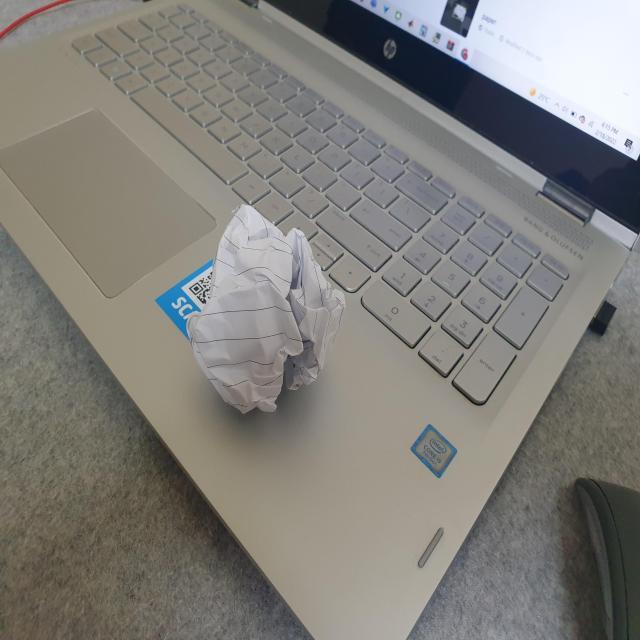cardboard paper: (183, 203, 344, 413)
